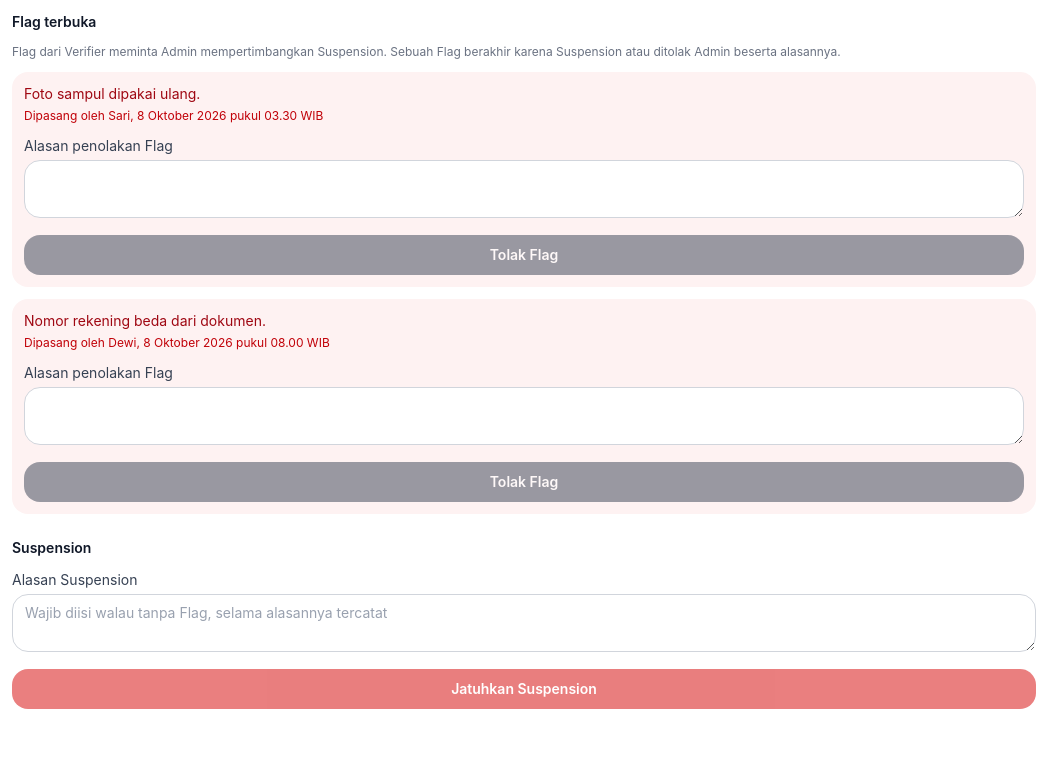
Test: AdminCampaignLifecycleActions -- open Flags › shows the server's refusal in its own words, under the Flag it concerns
The width and height of the screenshot is (1048, 780).
In the text box labelled "Alasan penolakan Flag" below "Foto sampul dipakai ulang.": (524, 189) [24, 160, 1024, 218], type "Tidak berdasar."
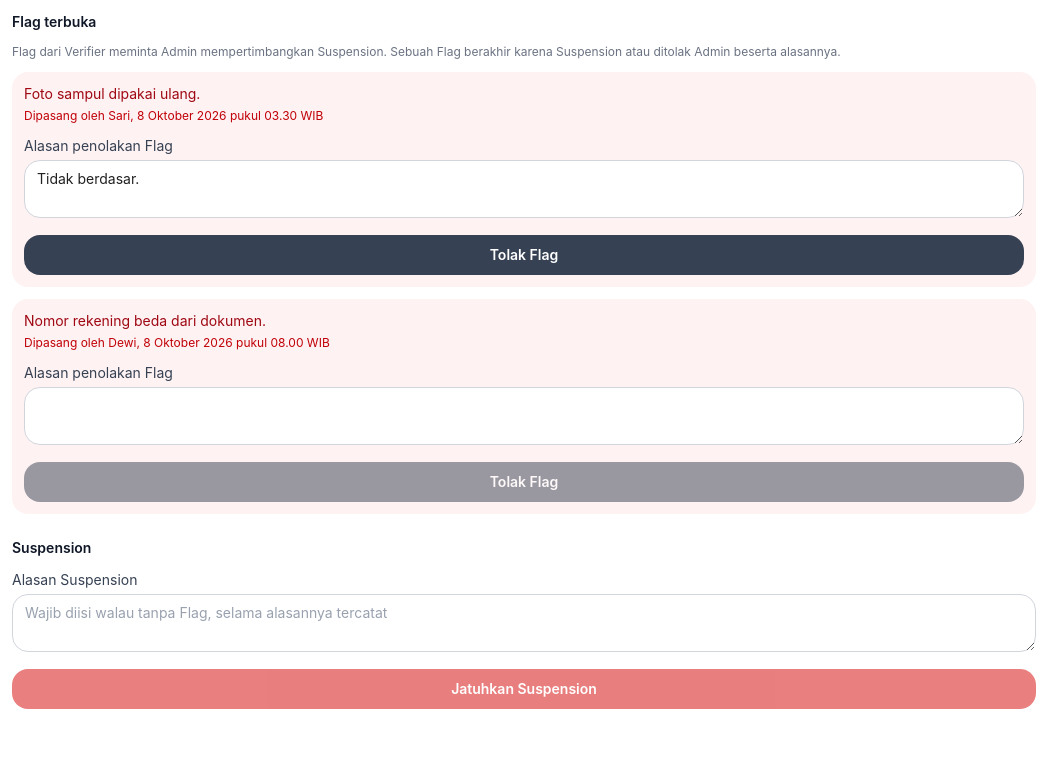
Click the button "Tolak Flag" below "Foto sampul dipakai ulang.": click(524, 255) [24, 235, 1024, 275]
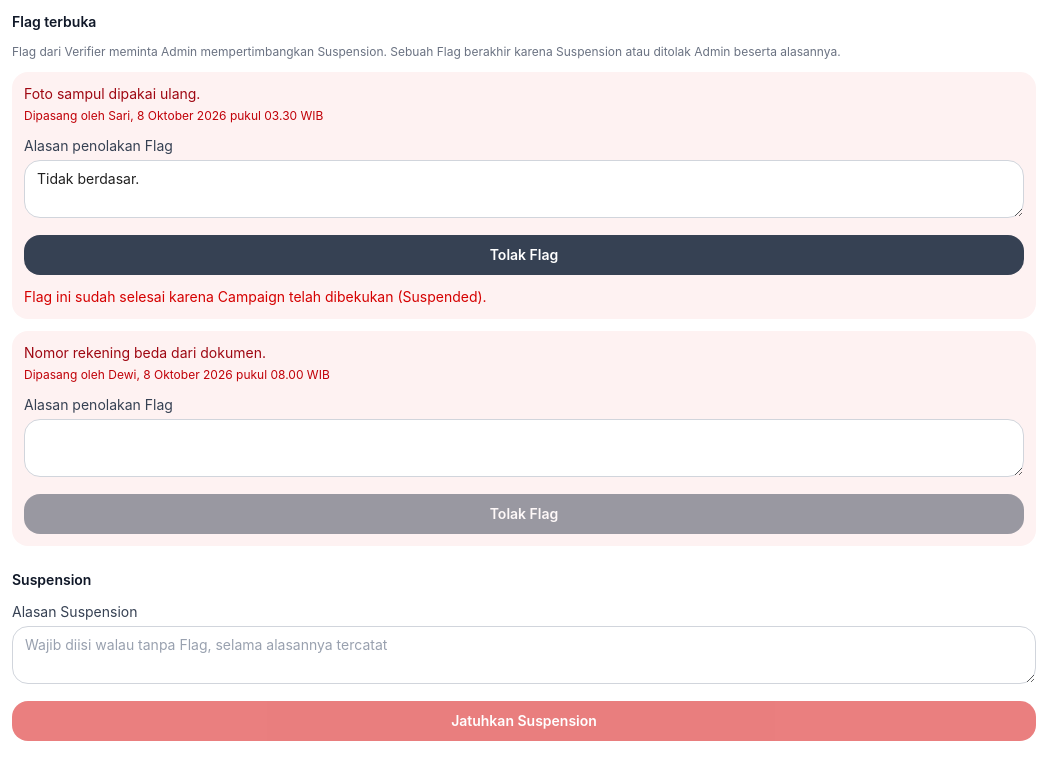
Now the message reads "Flag ini sudah selesai karena Campaign telah dibekukan (Suspended).", box [24, 288, 487, 305]
